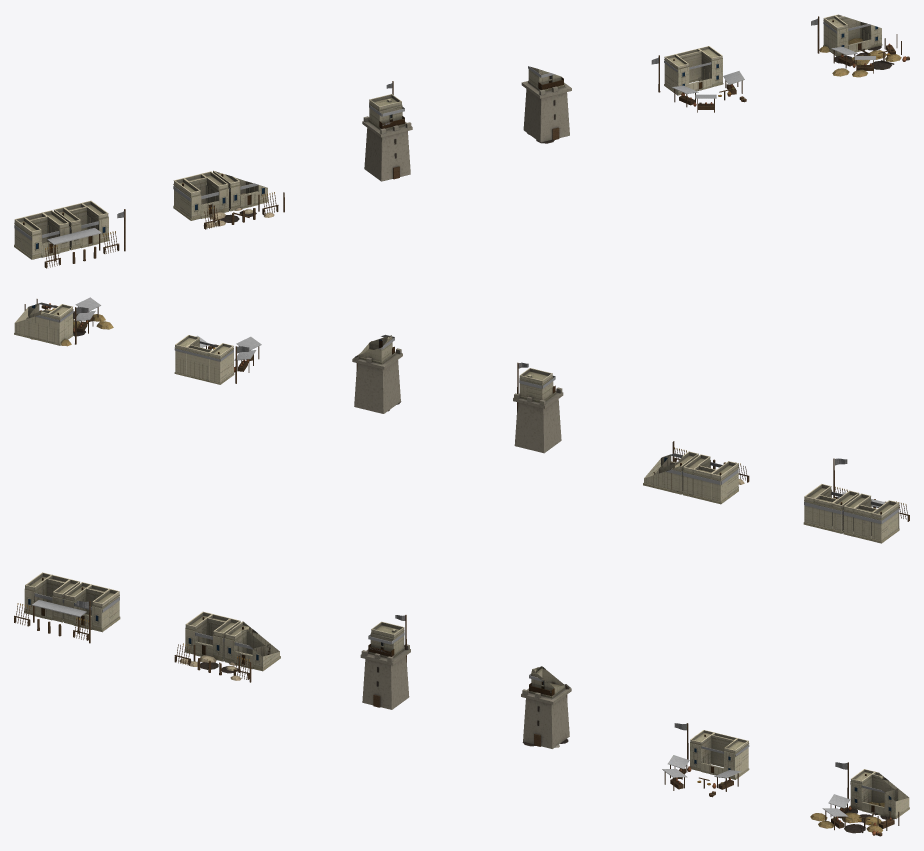
Rendered from rts-classical-israelite.glb.
The picture shows the model from 3 angles, top to bottom: view 1: azimuth 30°, elevation 25°; view 2: azimuth 150°, elevation 25°; view 3: azimuth 330°, elevation 25°; orthographic projection.
Visible parts, largest first — view 1: LOD0, LOD0.001, LOD0.002, LOD0.005, LOD0.004, LOD0.003; view 2: LOD0, LOD0.001, LOD0.002, LOD0.003, LOD0.004, LOD0.005; view 3: LOD0, LOD0.001, LOD0.005, LOD0.002, LOD0.004, LOD0.003.
Part boxes in pixels (x1=…): LOD0: x1=14, y1=200, x2=125, y2=268; LOD0.001: x1=173, y1=170, x2=284, y2=229; LOD0.002: x1=362, y1=81, x2=412, y2=181; LOD0.005: x1=811, y1=14, x2=909, y2=77; LOD0.004: x1=651, y1=46, x2=746, y2=112; LOD0.003: x1=521, y1=66, x2=571, y2=143; LOD0: x1=803, y1=458, x2=909, y2=543; LOD0.001: x1=643, y1=441, x2=749, y2=504; LOD0.002: x1=513, y1=362, x2=563, y2=453; LOD0.003: x1=352, y1=334, x2=402, y2=413; LOD0.004: x1=174, y1=335, x2=261, y2=384; LOD0.005: x1=14, y1=297, x2=113, y2=346; LOD0: x1=14, y1=572, x2=120, y2=643; LOD0.001: x1=174, y1=611, x2=280, y2=682; LOD0.005: x1=810, y1=762, x2=909, y2=836; LOD0.002: x1=360, y1=615, x2=410, y2=709; LOD0.004: x1=662, y1=723, x2=749, y2=797; LOD0.003: x1=521, y1=666, x2=571, y2=748.
Size of what is drawn, in the model's own units: 16.33 by 1.48 by 1.36.
2 materials, 2 textured.
